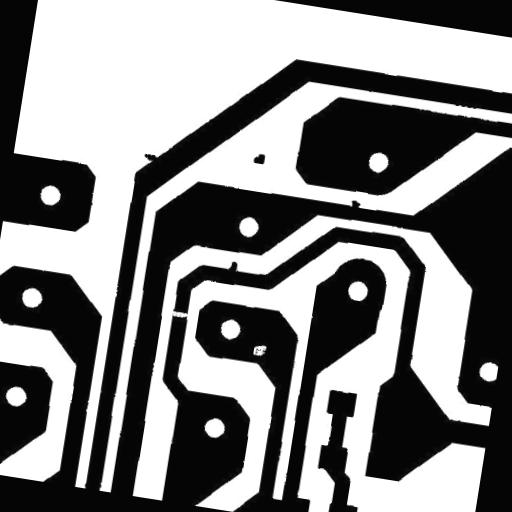copper: (244, 144, 273, 172)
open: (162, 302, 198, 326)
pin-hole: (244, 335, 274, 364)
spur: (134, 144, 168, 174), (218, 252, 246, 282), (342, 191, 368, 218)
